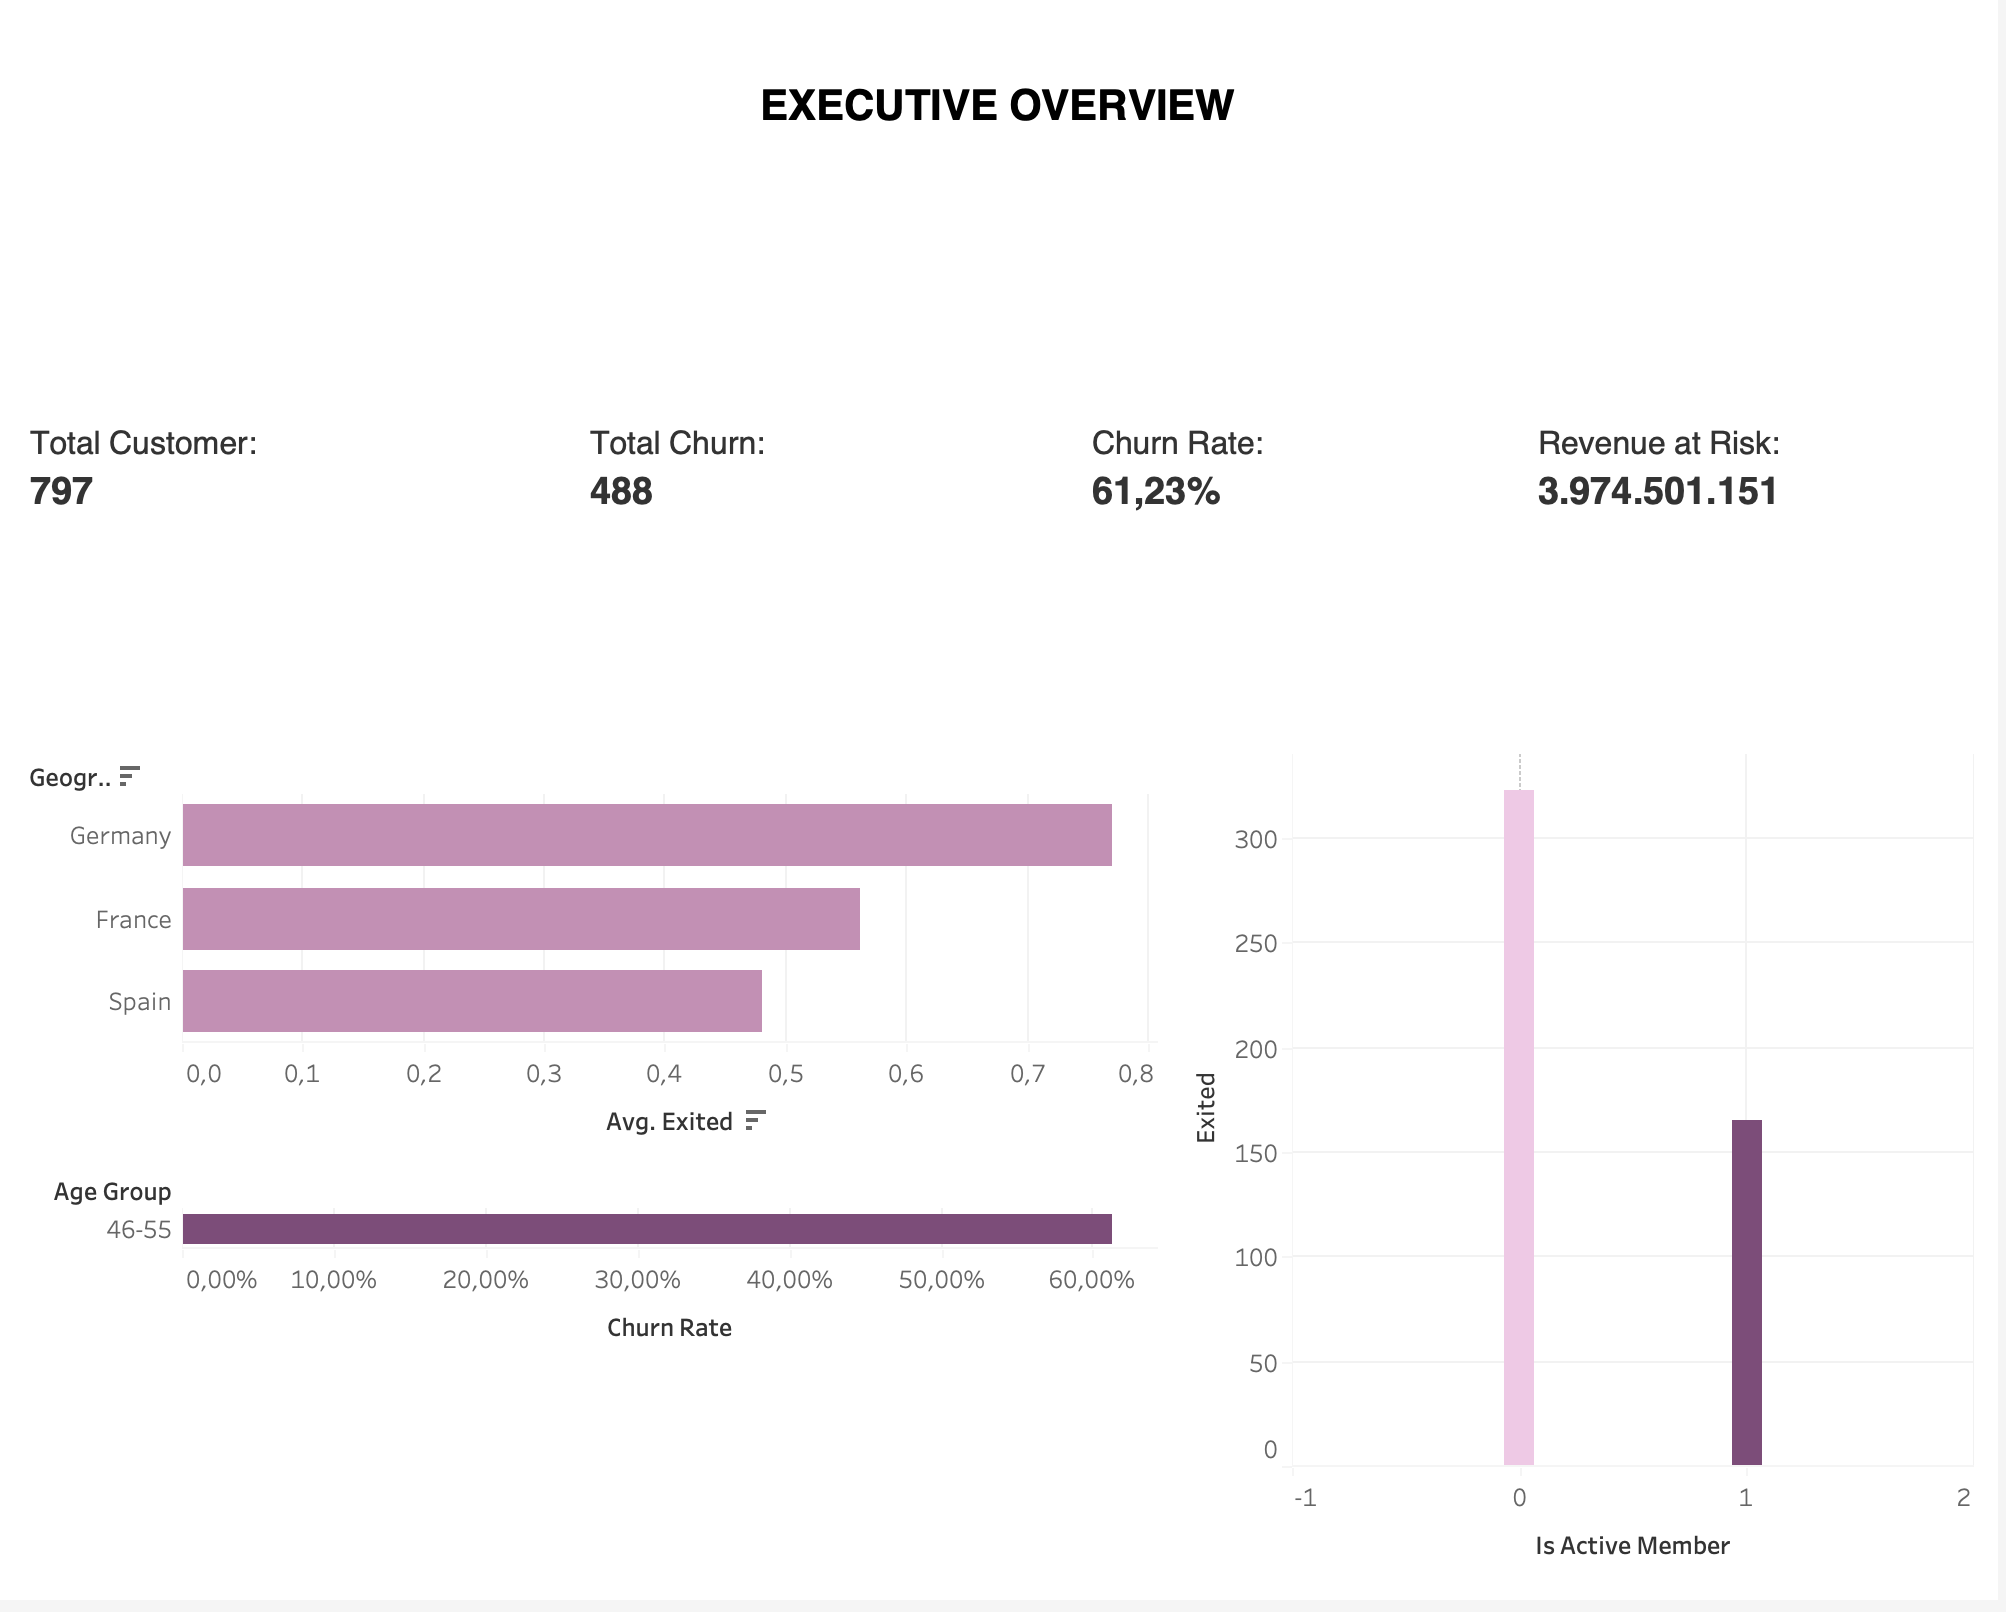

Layout of this report page (visuals, bound fields, positions):
{"tool":"tableau","page":{"name":"Dashboard 1","canvas":[1000,800],"ordinal":0},"visuals":[{"type":"text","box":[8,8,984,88]},{"type":"worksheet","title":"Total customer","mark":"Automatic","box":[8,96,280,276.6]},{"type":"worksheet","title":"Total Churn","mark":"Automatic","box":[288,96,251,276.6]},{"type":"worksheet","title":"Churn Rate","mark":"Automatic","box":[539,96,223,276.6]},{"type":"worksheet","title":"Revenue","mark":"Automatic","box":[762,96,230,276.6]},{"type":"worksheet","title":"Churn by geography","mark":"Automatic","rows":["Geography"],"cols":["Exited"],"box":[8,372.6,576,206.9]},{"type":"worksheet","title":"Active Member","mark":"Bar","rows":["Exited"],"cols":["IsActiveMember"],"box":[584,372.6,408,419.4]},{"type":"worksheet","title":"Age Group","mark":"Automatic","rows":["AgeGroup"],"cols":["Calculation_453456227638181892"],"box":[8,579.5,576,103]}]}

Visuals, with their boxes in screenshot pixels (x1, y1, x2, y2), scaled from the page's 1000x800 canvas onto the 2006x1612 screenshot:
text: (16,16,1990,193)
"Total customer" worksheet: (16,193,578,751)
"Total Churn" worksheet: (578,193,1081,751)
"Churn Rate" worksheet: (1081,193,1529,751)
"Revenue" worksheet: (1529,193,1990,751)
"Churn by geography" worksheet: (16,751,1172,1168)
"Active Member" worksheet (Bar marks): (1172,751,1990,1596)
"Age Group" worksheet: (16,1168,1172,1375)
